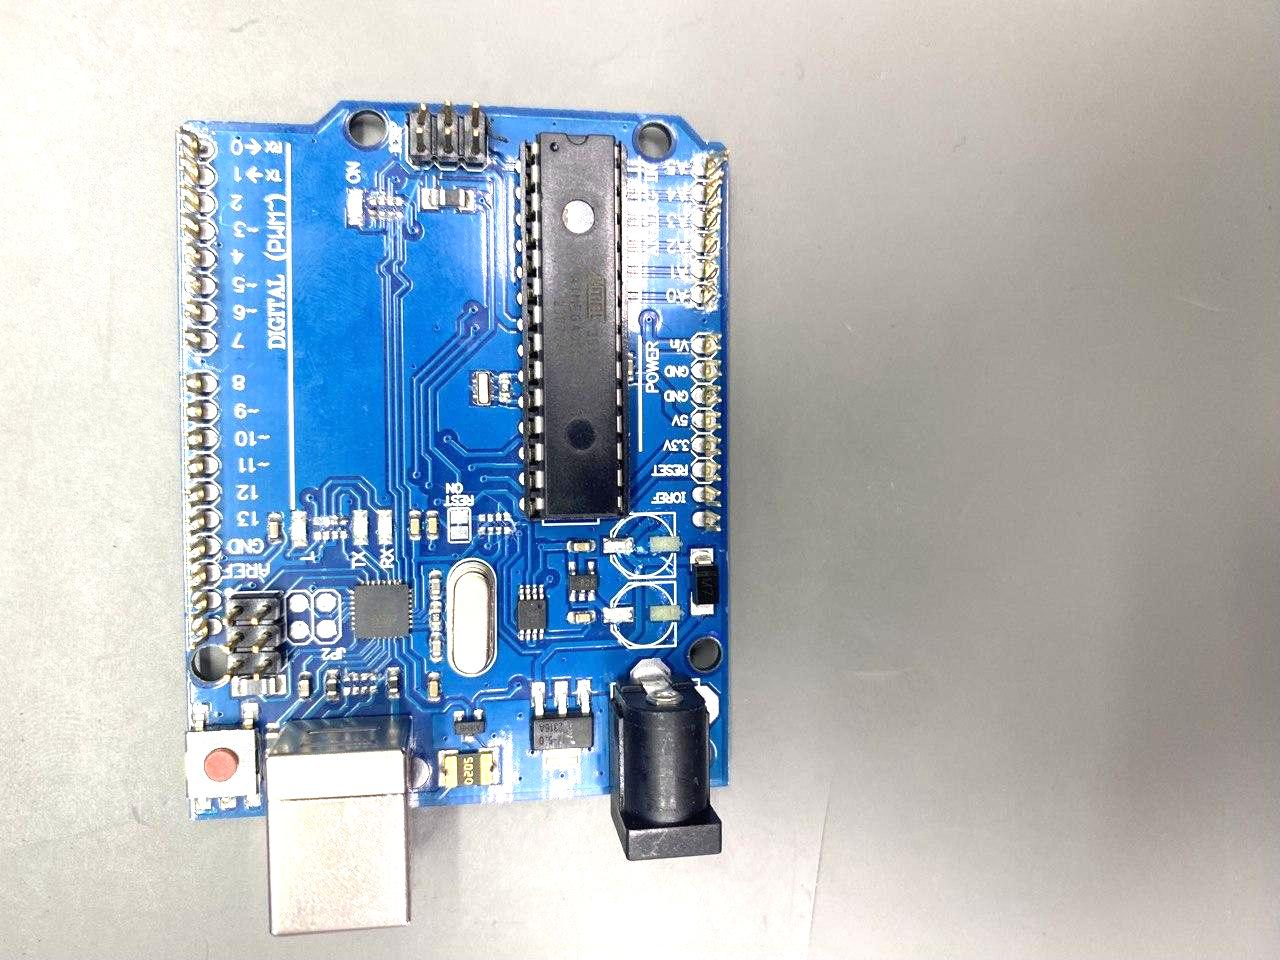ATmega328 chip: (518, 130, 629, 520)
Arduino board: (175, 99, 731, 938)
USB: (265, 713, 415, 938)
